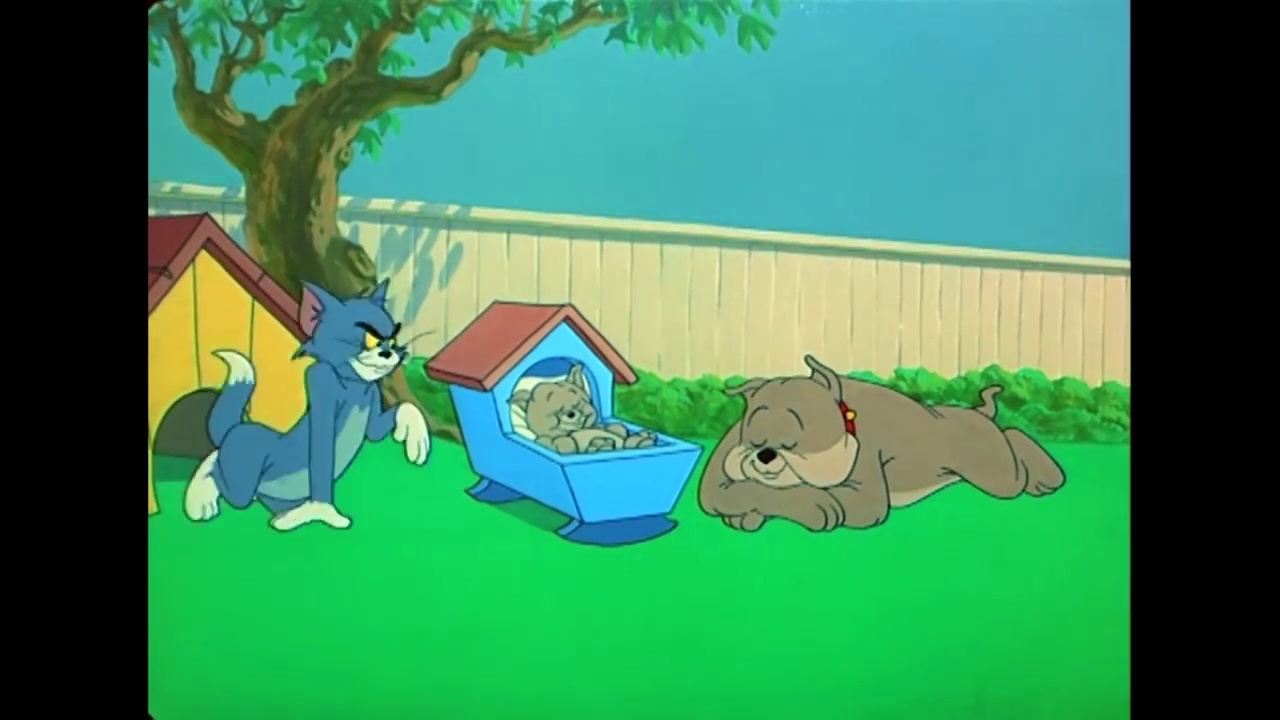spike: (715, 355, 862, 496)
tom: (286, 279, 418, 394)
